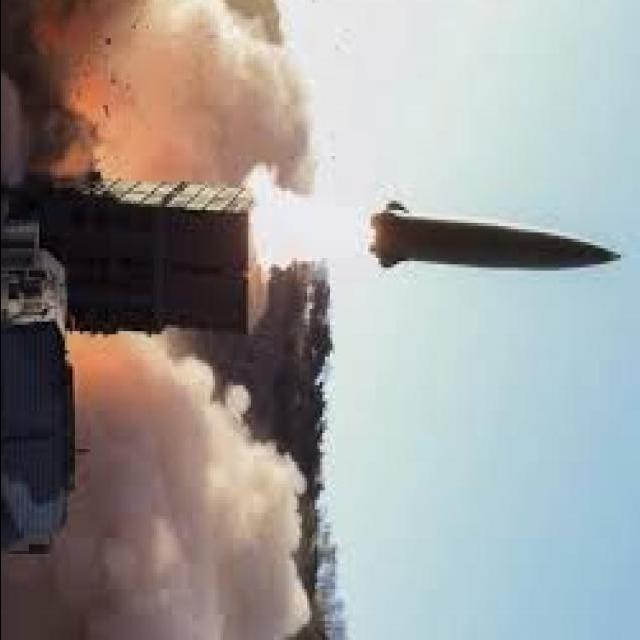missile: (366, 197, 633, 293)
